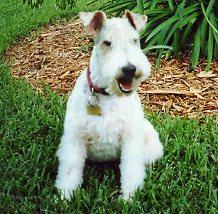wire-haired_fox_terrier: (52, 10, 165, 201)
